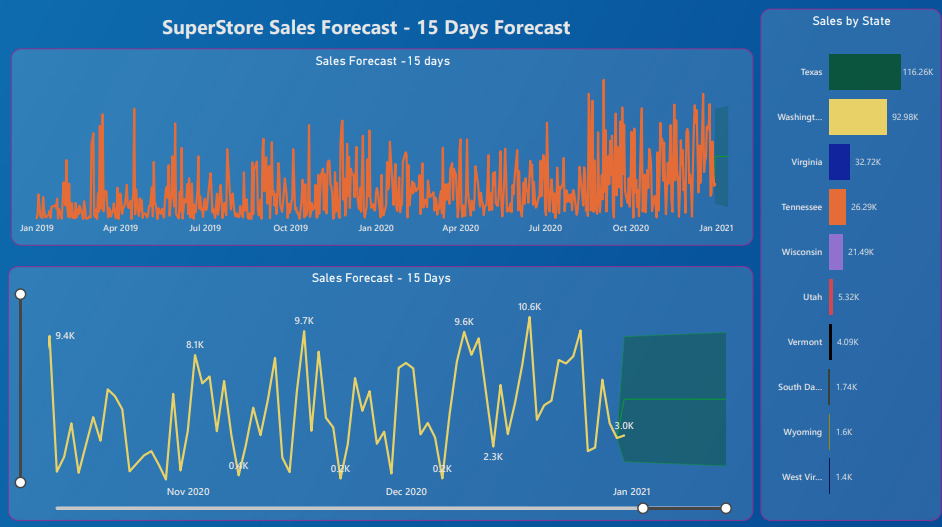

This screenshot's page, from the dashboard's own definition file:
{"tool":"powerbi","page":{"name":"Forecast ","canvas":[1280,720],"ordinal":1},"visuals":[{"type":"lineChart","title":"Sales Forecast -15 days","fields":{"Y":["Sum(Sheet1.Sales)"],"Category":["Sheet1.Order Date"]},"box":[13.8,64.7,1010.2,268.4],"z":0},{"type":"lineChart","title":"Sales Forecast - 15 Days","fields":{"Y":["Sum(Sheet1.Sales)"],"Category":["Sheet1.Order Date"]},"box":[9.6,360.6,1014.4,346.8],"z":1000},{"type":"clusteredBarChart","title":"Sales by State","fields":{"Category":["Sheet1.State"],"Y":["Sum(Sheet1.Sales)"]},"box":[1033.6,11,246.4,696.4],"z":2000},{"type":"textbox","box":[198.2,11,598.7,53.7],"z":3000}]}

Visuals, with their boxes in screenshot pixels (x1, y1, x2, y2), scaled from the page's 1280x720 canvas onto the 942x527 screenshot:
"Sales Forecast -15 days" lineChart: <region>10, 47, 754, 244</region>
"Sales Forecast - 15 Days" lineChart: <region>7, 264, 754, 518</region>
"Sales by State" clusteredBarChart: <region>761, 8, 941, 518</region>
textbox: <region>146, 8, 586, 47</region>
